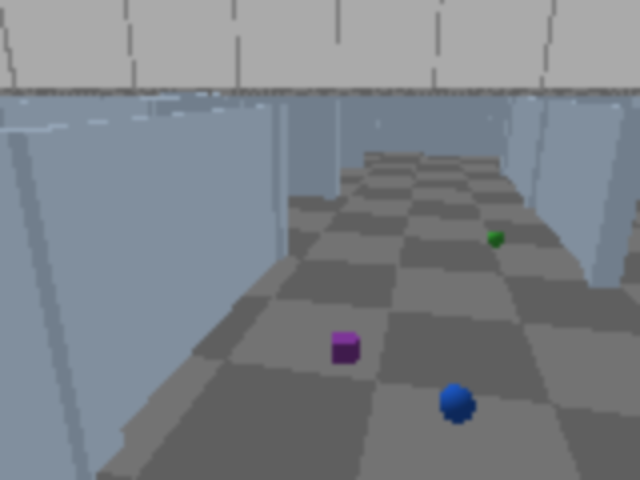puck: (432, 377, 484, 432), (332, 331, 357, 365), (484, 228, 508, 249)
